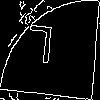L: (24, 24, 55, 74)
